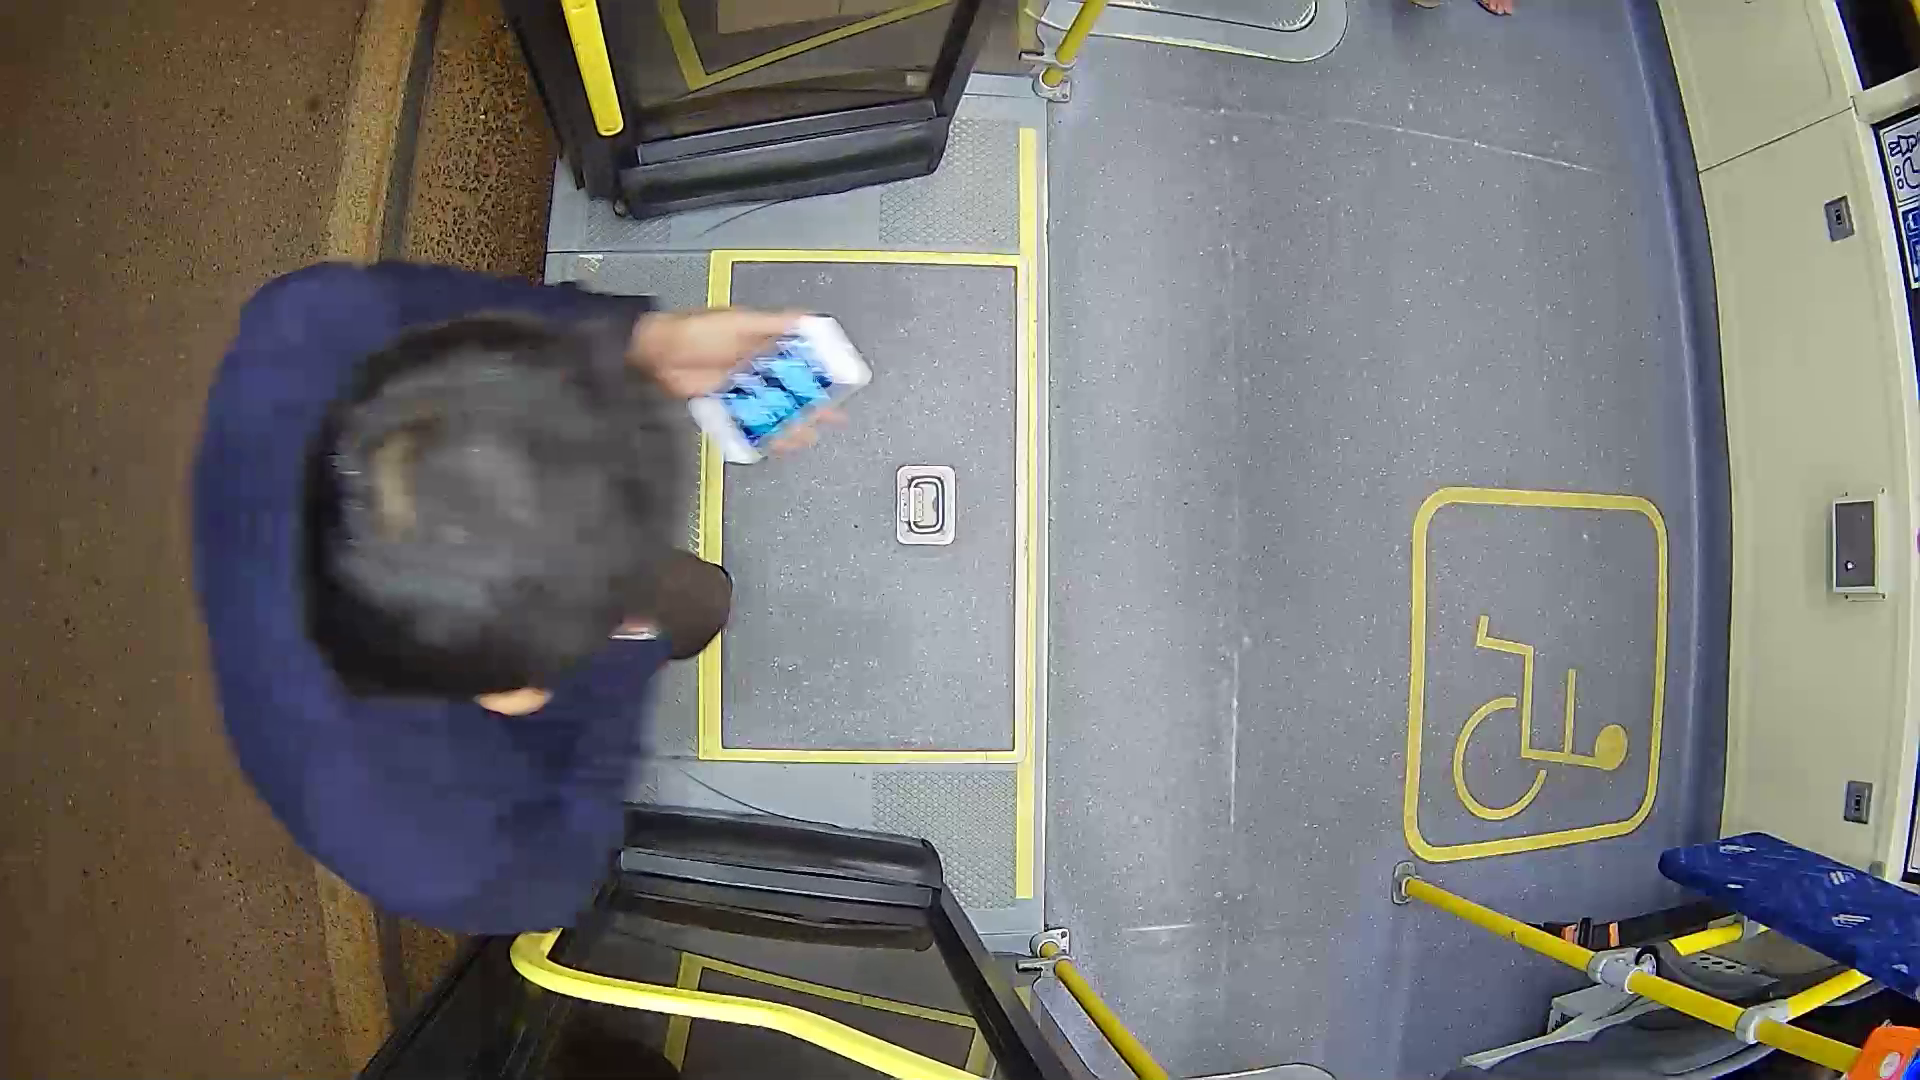person: (192, 233, 918, 995)
